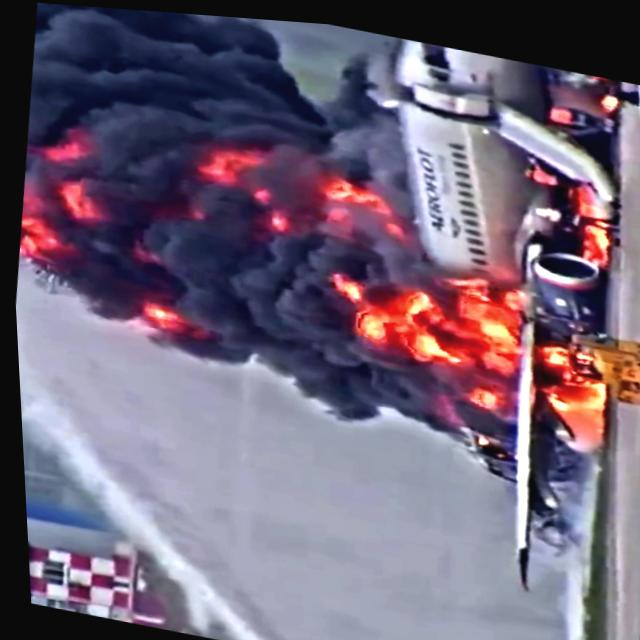fire: (366, 277, 517, 365)
smoke: (15, 1, 255, 212)
